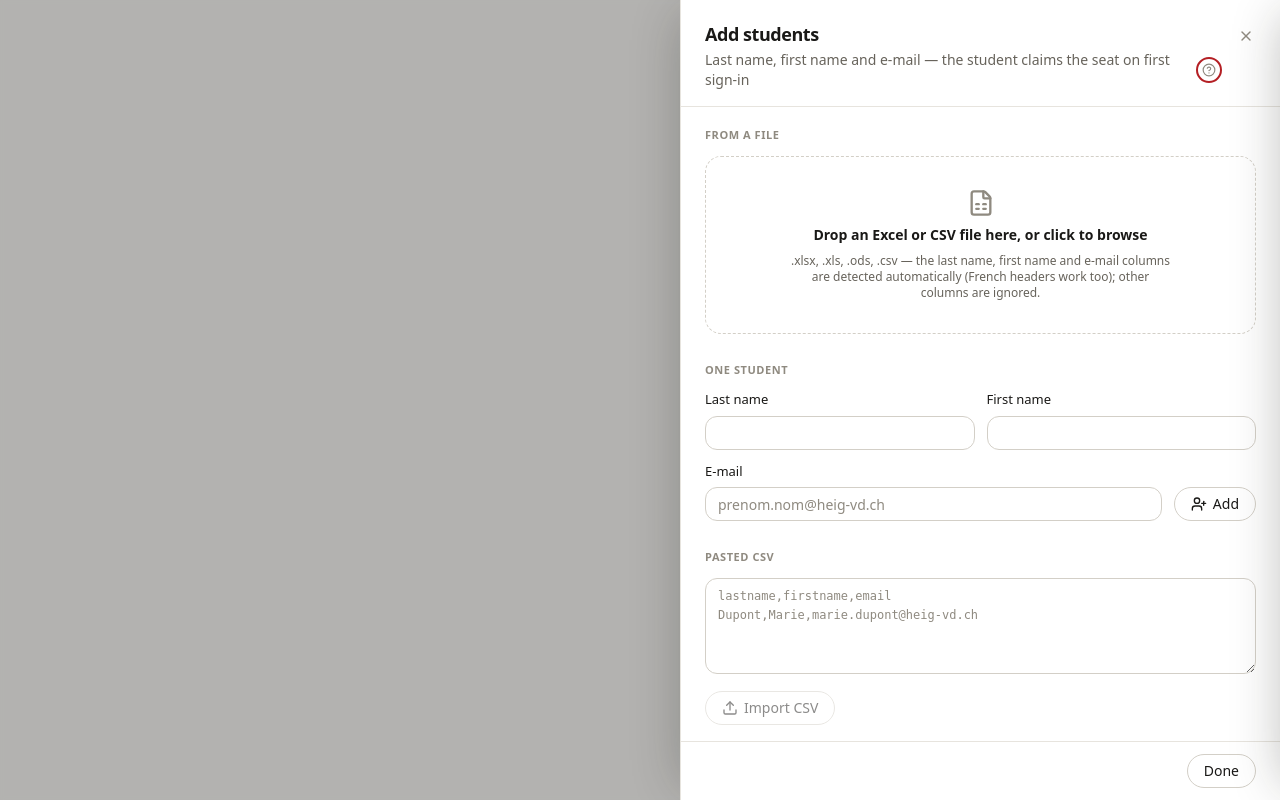
Scenario: RosterImport rejected lines › keeps the plain failure line when the server names no line
Type "Dupont,Marie,marie@heig-vd.ch" into the text box named "Roster CSV".
click(980, 626); type("Dupont,Marie,marie@heig-vd.ch")  # box [705,578,1256,674]
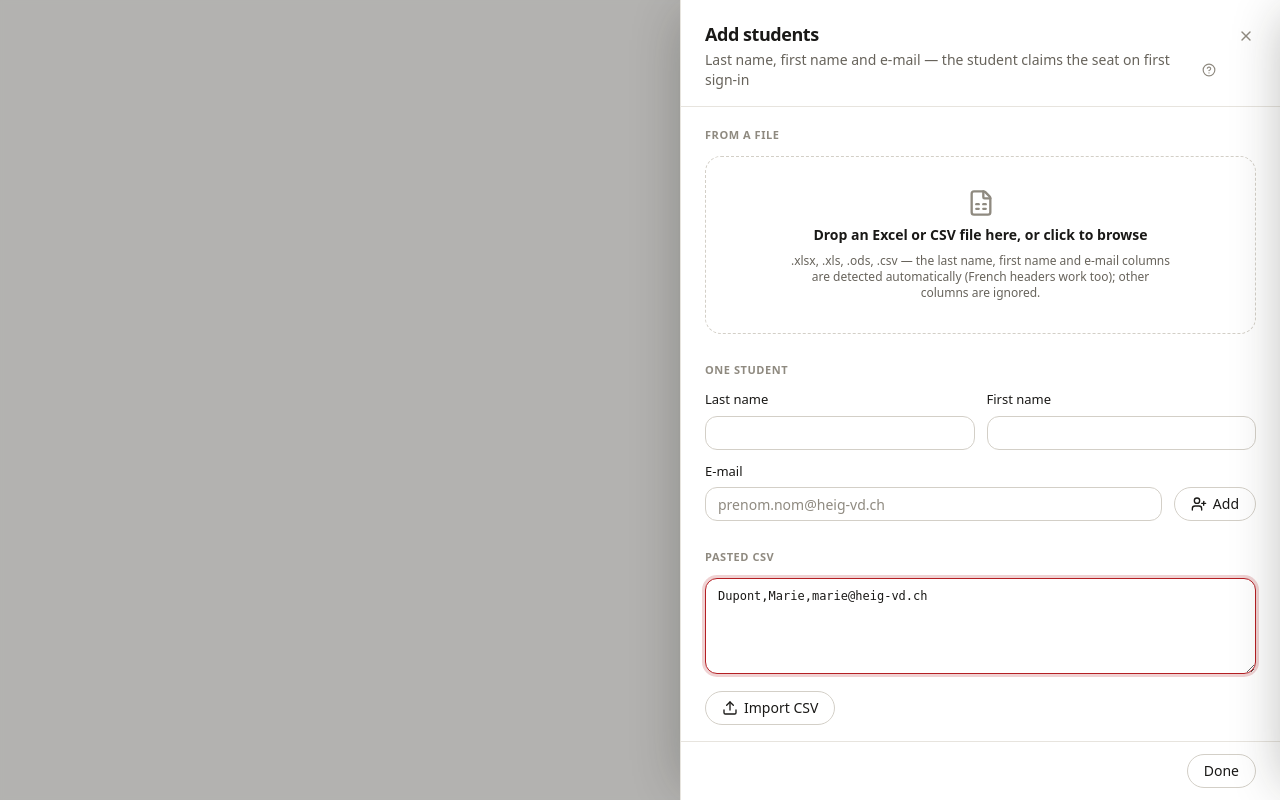
Click the button "Import CSV".
click(770, 708)  # box [705,690,835,724]
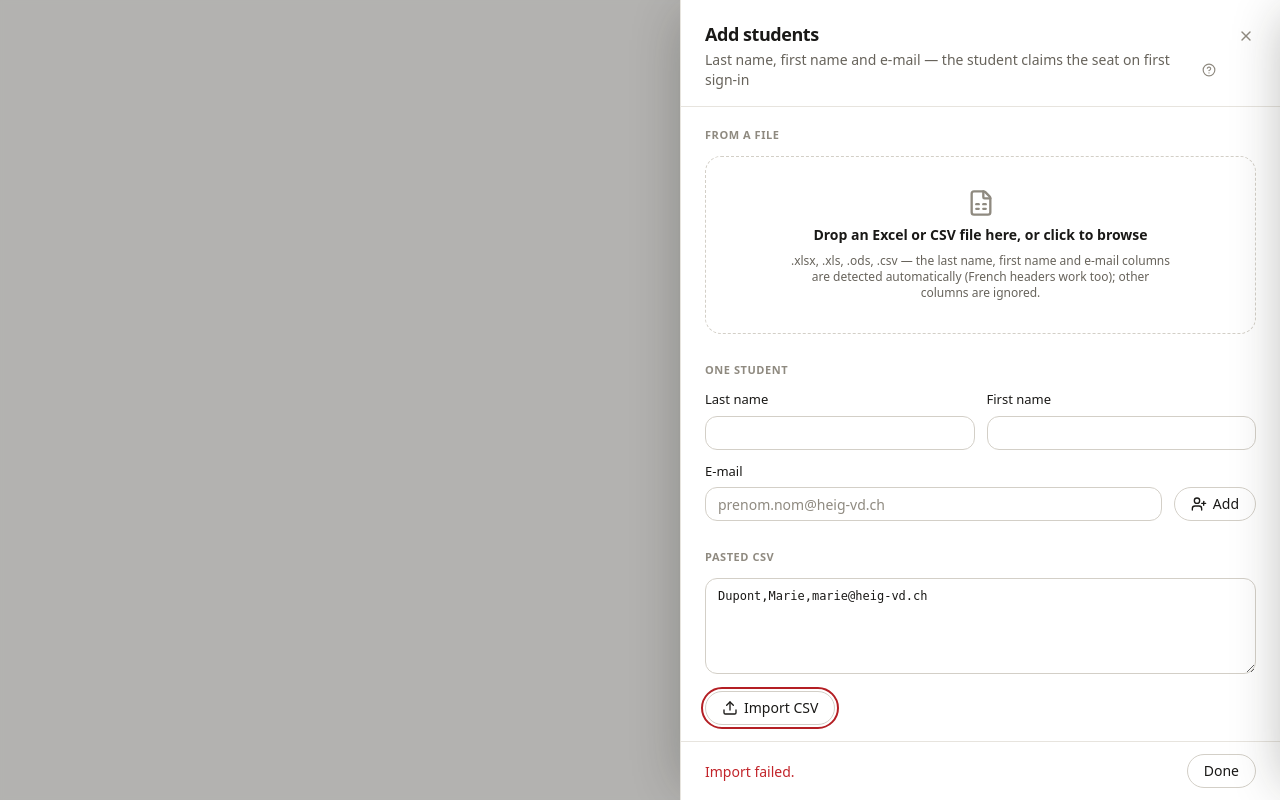
Now the text "Import failed." is shown, box [705,762,794,780]
